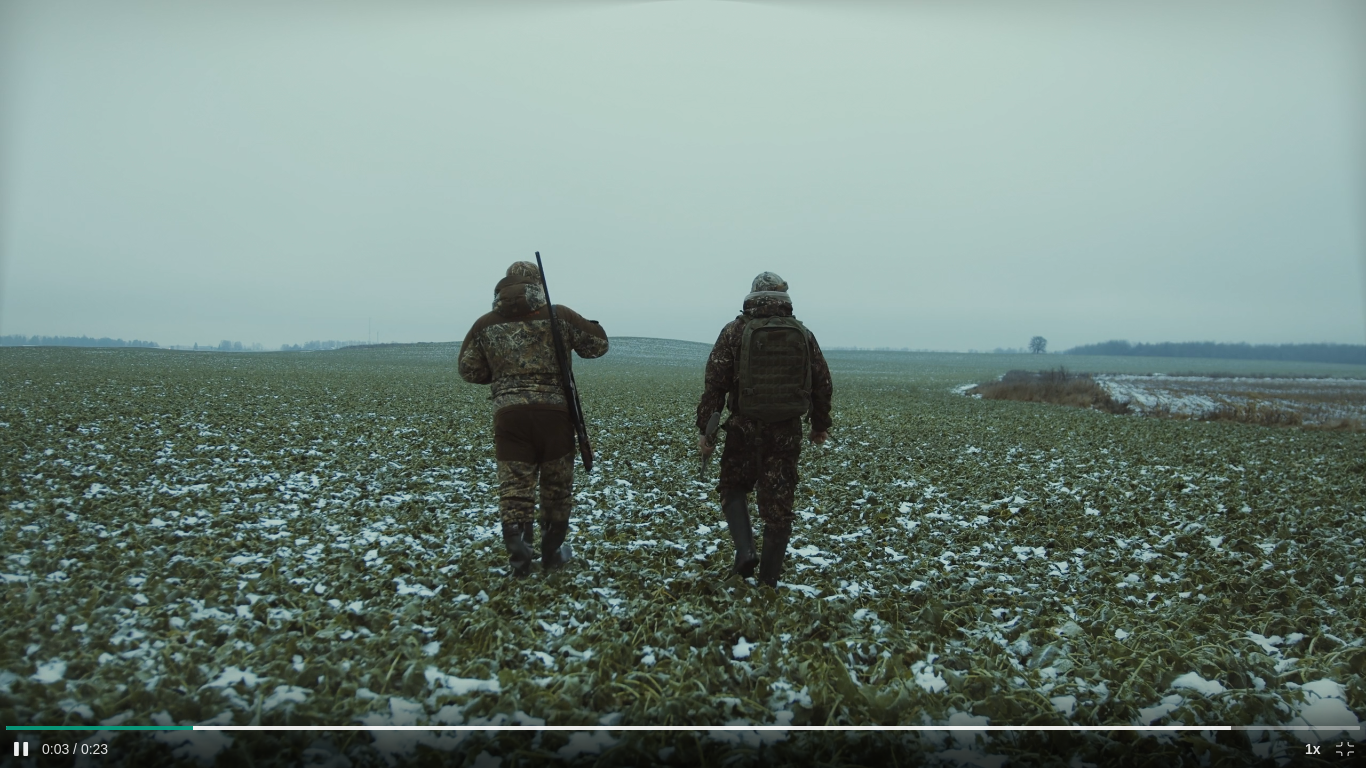gun: (533, 250, 595, 475), (700, 410, 721, 479)
p_w_gun: (459, 249, 610, 575), (694, 270, 838, 589)
